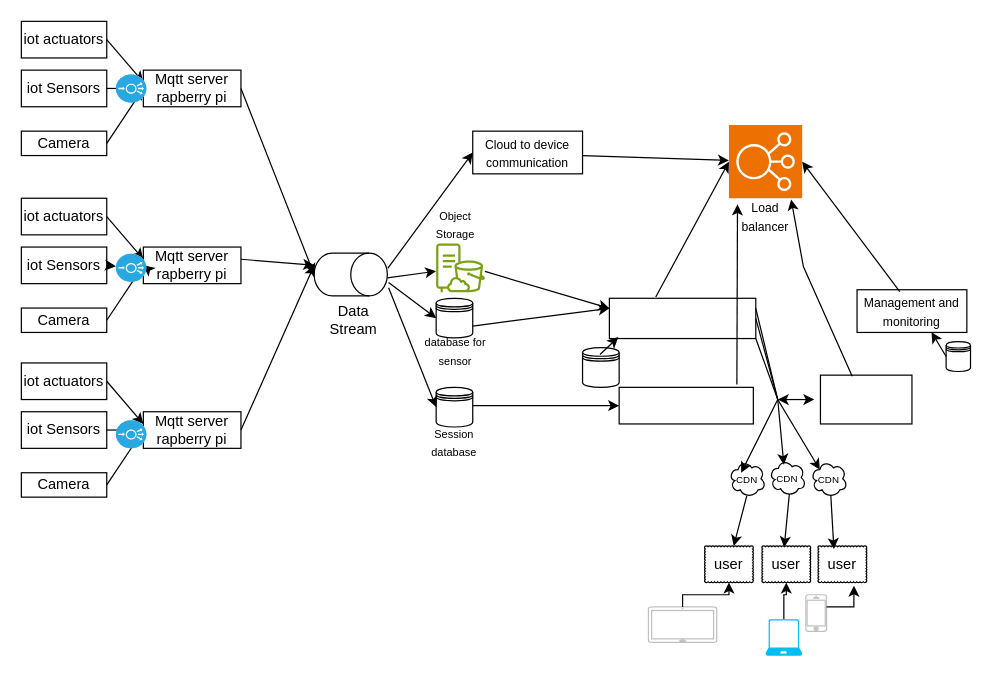
Some shapes in this 992 by 677 pixel diagram are drawn without their labels. The box of each missing label's shape, as (x1, y1, x2, y2) in pixels:
Api services for user: (819, 374, 912, 424)
IA image traitement and data analytics: (608, 297, 756, 339)
session management: (618, 386, 753, 424)
